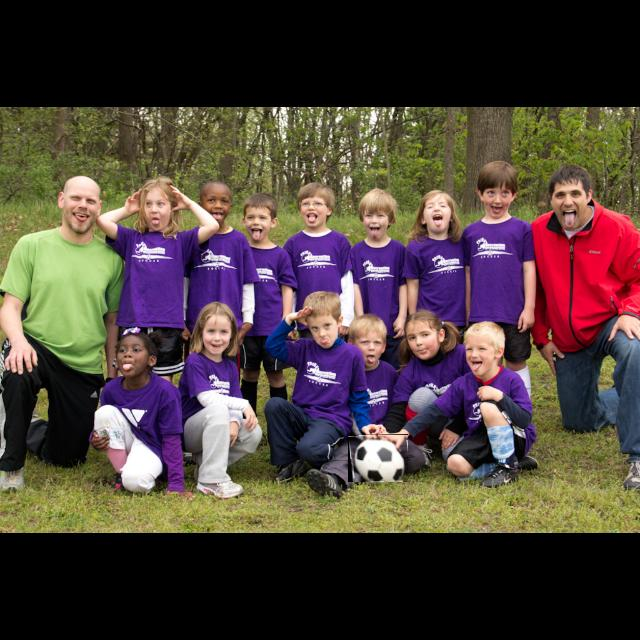Football: (348, 434, 408, 482)
